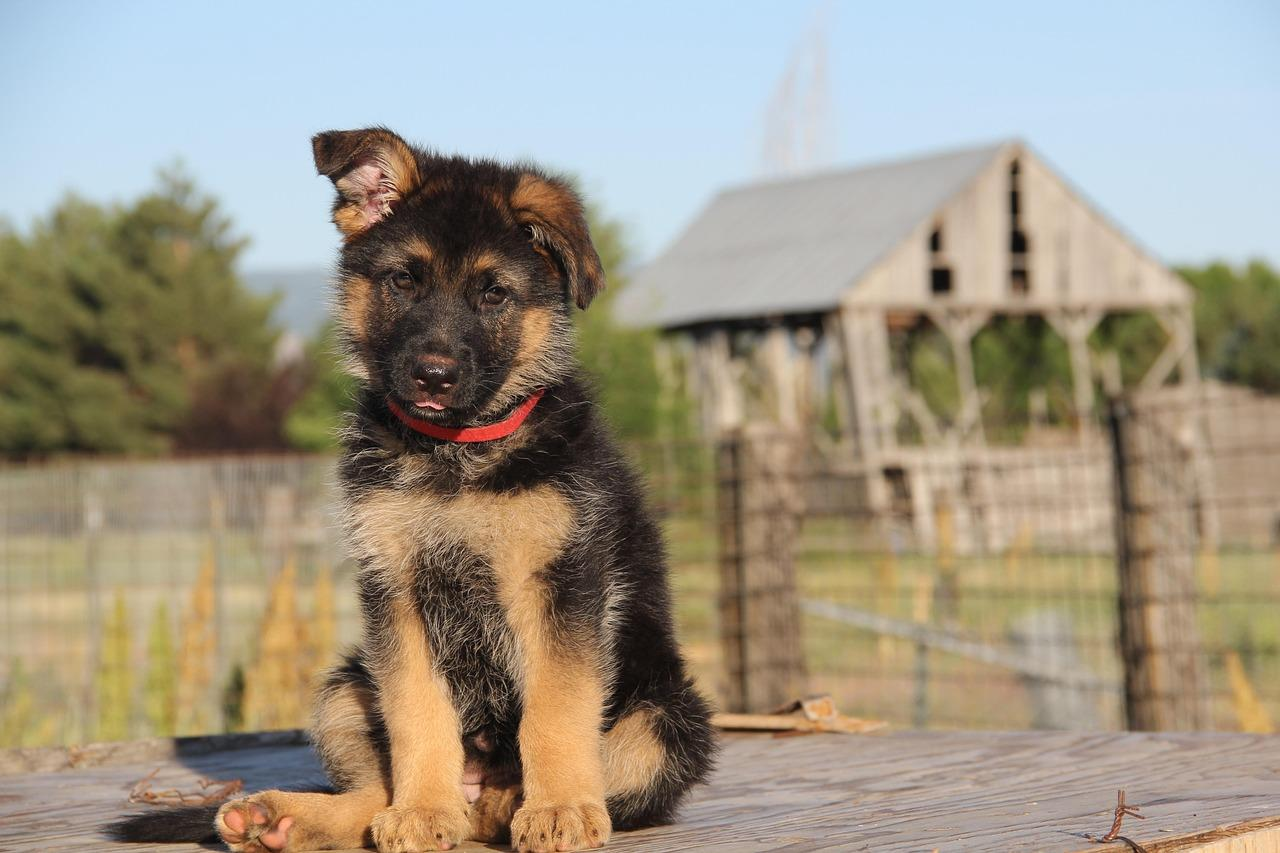german_shepherd: (304, 127, 592, 471)
